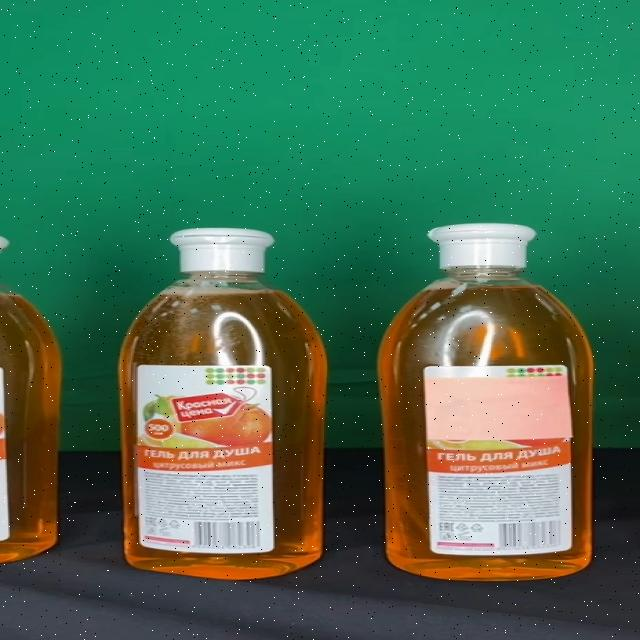Bottle: (376, 224, 594, 582), (118, 228, 329, 580)
Cap: (428, 224, 536, 268), (168, 228, 274, 272)
